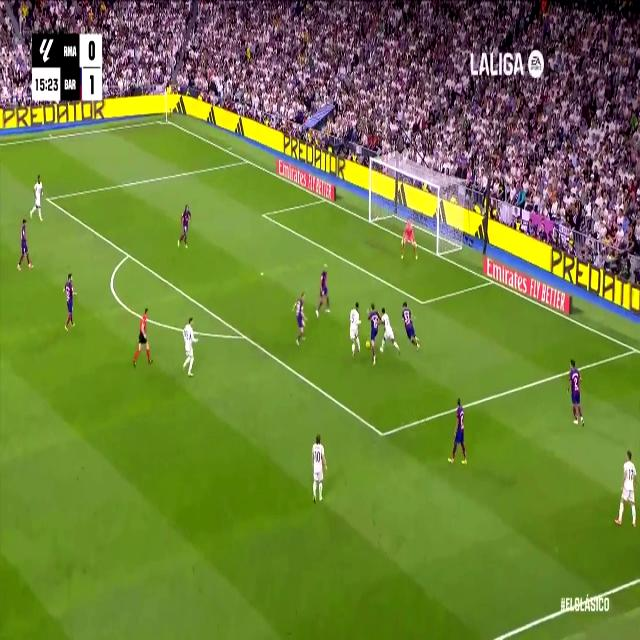bigarea_bottom_inner: (376, 419, 388, 449)
bigarea_bottom_outter: (630, 340, 640, 358)
bigarea_top_inner: (44, 190, 52, 207)
bigarea_top_outter: (242, 152, 251, 166)
bottom_arc_area_intersection: (238, 324, 249, 346)
smallarea_bottom_inner: (418, 292, 427, 312)
smallarea_top_inner: (258, 205, 268, 223)
top_arc_area_intersection: (124, 245, 133, 263)
